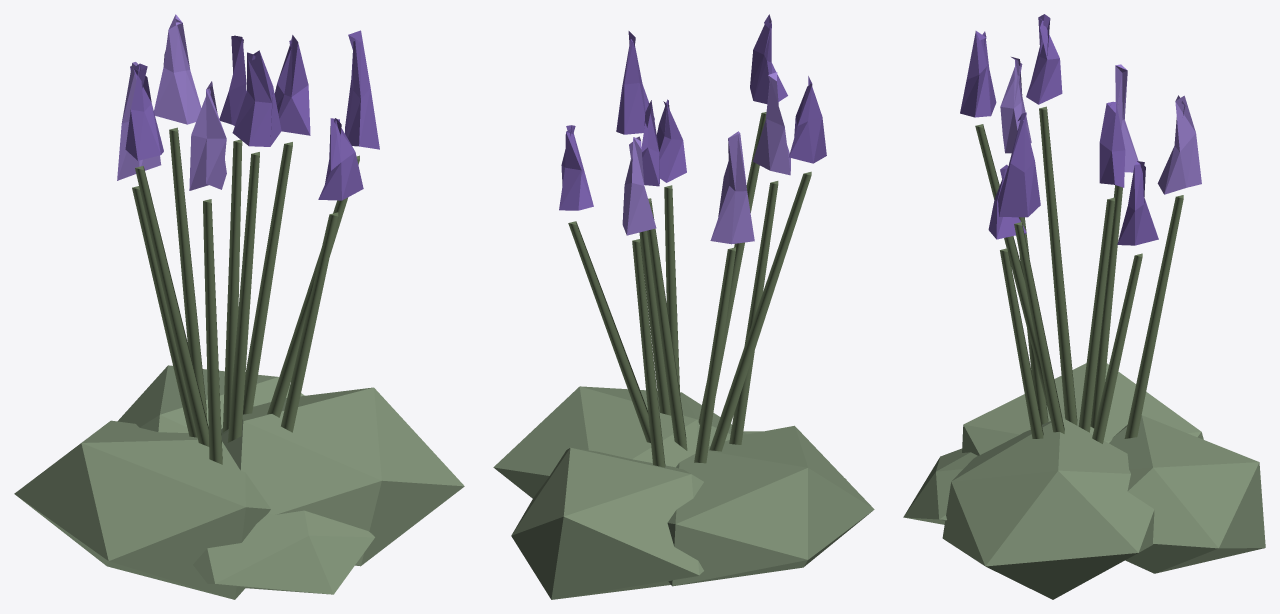
The model's file is lavender-plant.glb.
3 renders of one model, left to right at view 1: azimuth 30°, elevation 25°; view 2: azimuth 150°, elevation 25°; view 3: azimuth 270°, elevation 25°, orthographic. The views are drawn at different scales.
Parts seen in each view (by area): view 1: foliage, stems, blooms-deep, blooms; view 2: foliage, stems, blooms-deep, blooms; view 3: foliage, stems, blooms-deep, blooms.
Part boxes in pixels (x1=…): foliage: x1=14, y1=365, x2=464, y2=599; stems: x1=132, y1=127, x2=359, y2=464; blooms-deep: x1=125, y1=30, x2=379, y2=200; blooms: x1=117, y1=14, x2=226, y2=190; foliage: x1=493, y1=386, x2=874, y2=599; stems: x1=568, y1=112, x2=811, y2=467; blooms-deep: x1=559, y1=14, x2=826, y2=210; blooms: x1=622, y1=72, x2=790, y2=244; foliage: x1=903, y1=363, x2=1265, y2=599; stems: x1=975, y1=106, x2=1183, y2=443; blooms-deep: x1=960, y1=14, x2=1158, y2=245; blooms: x1=1000, y1=57, x2=1201, y2=194.
Bounding box in the file's own units: 0.4184 × 0.6248 × 0.411.
